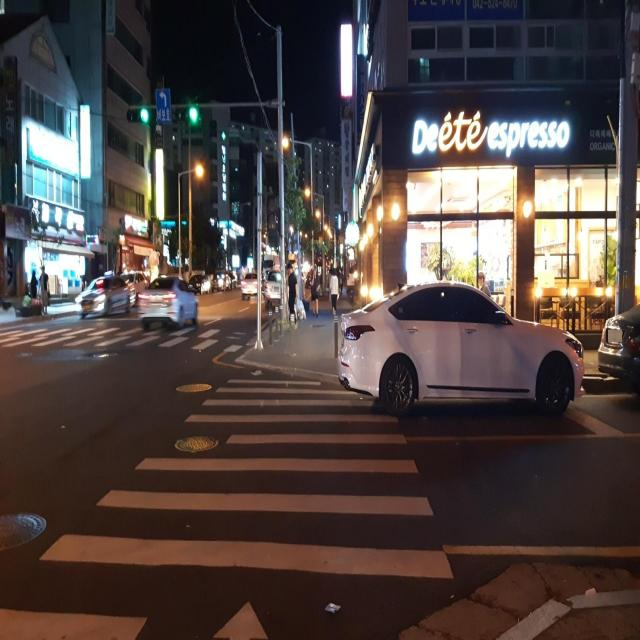횡단보도: (0, 368, 456, 640), (0, 315, 242, 364)
